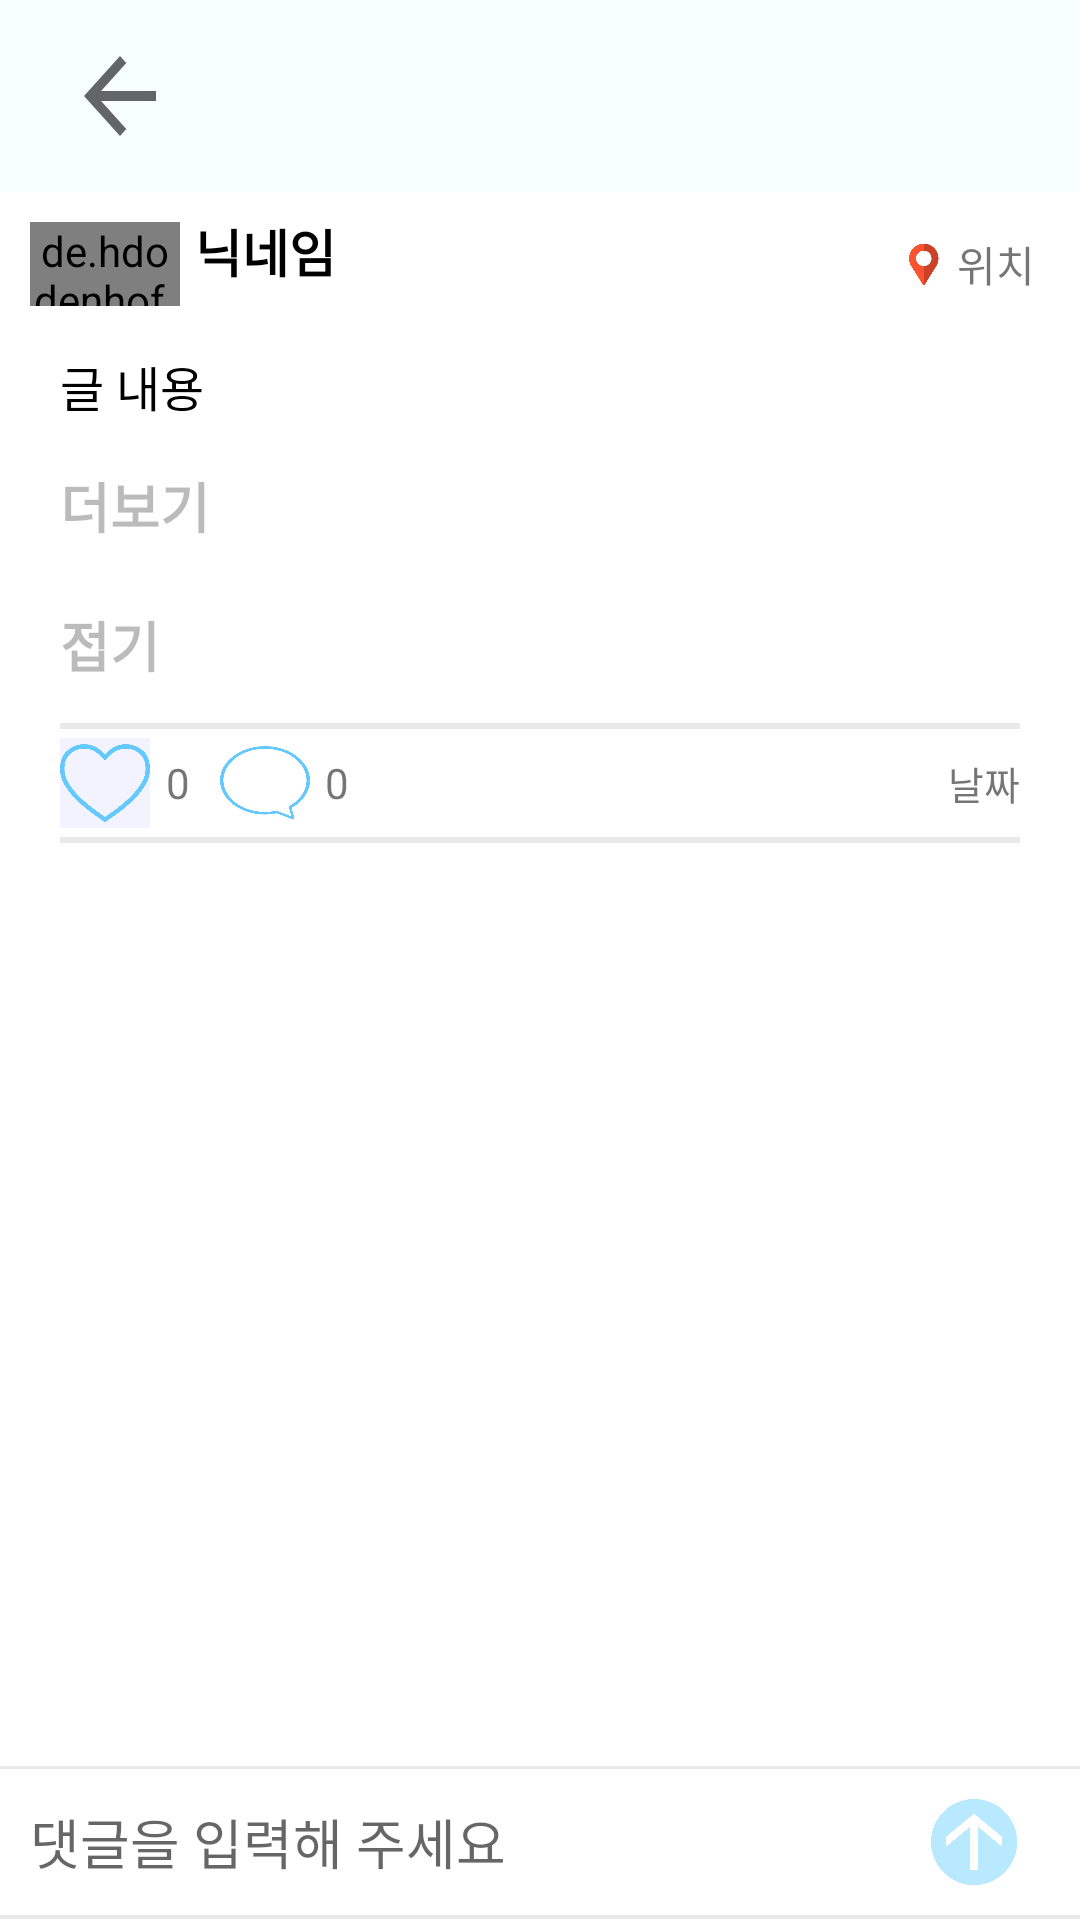

Named icons in this screenshot (1080w x 1920h) and their centers, point (x, y):
comment: point (265, 782)
commentup: point (974, 1842)
heart: point (105, 783)
marker: point (924, 264)
